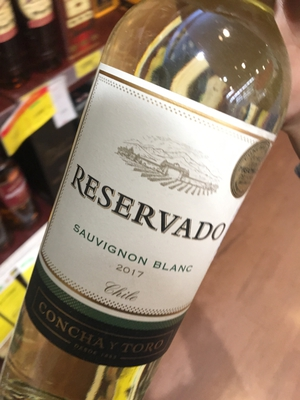reservado sauvignon blanc: (43, 14, 271, 400)
